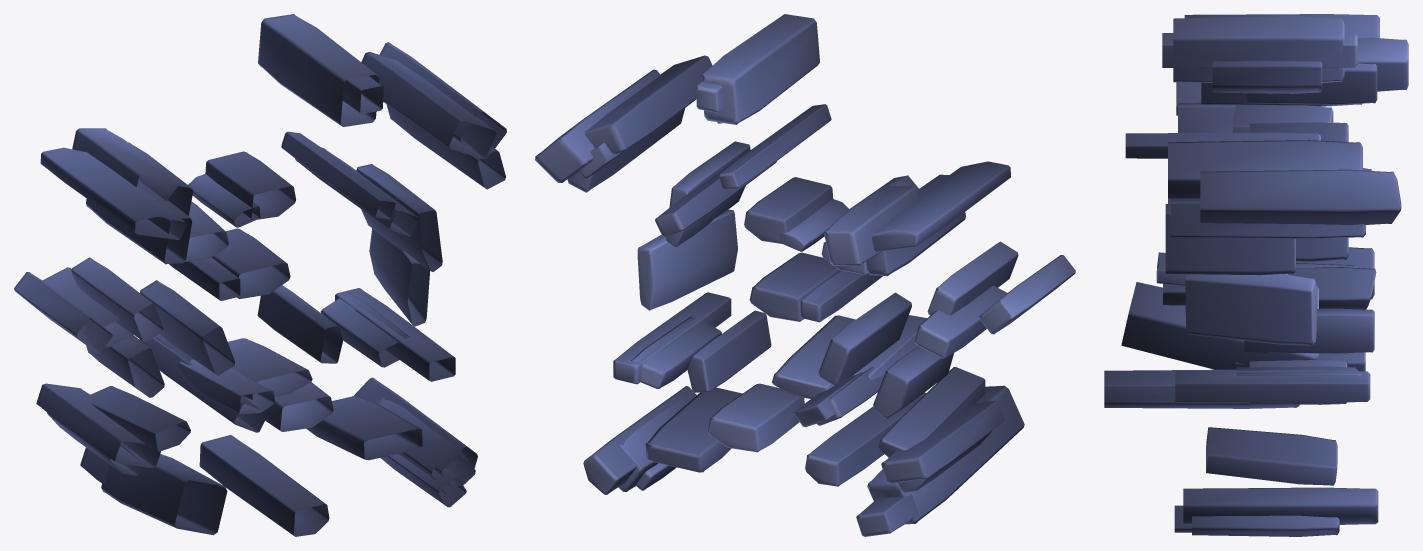
Rendered from Rocks.fbx.
3 views of the same model, side by side, from view 1: azimuth 30°, elevation 25°; view 2: azimuth 150°, elevation 25°; view 3: azimuth 270°, elevation 25° (orthographic). The views are drawn at different scales.
Parts seen in each view (by area): view 1: Mountain_Cliff_01_8, Mountain_Cliff_03_6, Mountain_Cliff_01_18, Mountain_Cliff_01_11, Mountain_Cliff_03, Mountain_Cliff_01_6, Mountain_Cliff_01_12, Mountain_Cliff_01_15, Mountain_Cliff_03_5, Mountain_Cliff_03_7, Mountain_Cliff_03_11, Mountain_Cliff_01_4 (+28 smaller); view 2: Mountain_Cliff_01_8, Mountain_Cliff_03_12, Mountain_Cliff_03, Mountain_Cliff_01_11, Mountain_Cliff_03_15, Mountain_Cliff_01_18, Mountain_Cliff_01_6, Mountain_Cliff_01_12, Mountain_Cliff_01_15, Mountain_Cliff_03_2, Mountain_Cliff_03_6, Mountain_Cliff_01_21 (+27 smaller); view 3: Mountain_Cliff_02_3, Mountain_Cliff_03_12, Mountain_Cliff_01_8, Mountain_Cliff_01_11, Mountain_Cliff_01_6, Mountain_Cliff_01_16, Mountain_Cliff_01_18, Mountain_Cliff_03_3, Mountain_Cliff_03_11, Mountain_Cliff_01_14, Mountain_Cliff_03_16, Mountain_Cliff_03_6 (+20 smaller).
Boxes of the visible parts, bbox=[...] form: Mountain_Cliff_01_8: bbox=[258, 14, 379, 126]; Mountain_Cliff_03_6: bbox=[199, 435, 329, 536]; Mountain_Cliff_01_18: bbox=[101, 454, 227, 535]; Mountain_Cliff_01_11: bbox=[361, 51, 496, 158]; Mountain_Cliff_03: bbox=[40, 147, 187, 239]; Mountain_Cliff_01_6: bbox=[306, 396, 422, 460]; Mountain_Cliff_01_12: bbox=[36, 383, 160, 468]; Mountain_Cliff_01_15: bbox=[140, 280, 234, 375]; Mountain_Cliff_03_5: bbox=[257, 285, 342, 363]; Mountain_Cliff_03_7: bbox=[205, 151, 295, 220]; Mountain_Cliff_03_11: bbox=[356, 164, 442, 271]; Mountain_Cliff_01_4: bbox=[71, 257, 163, 342]; Mountain_Cliff_01_8: bbox=[701, 14, 819, 124]; Mountain_Cliff_03_12: bbox=[637, 209, 737, 310]; Mountain_Cliff_03: bbox=[871, 161, 1010, 251]; Mountain_Cliff_01_11: bbox=[585, 55, 712, 153]; Mountain_Cliff_03_15: bbox=[707, 383, 804, 452]; Mountain_Cliff_01_18: bbox=[867, 385, 1024, 524]; Mountain_Cliff_01_6: bbox=[645, 387, 742, 472]; Mountain_Cliff_01_12: bbox=[881, 400, 1004, 483]; Mountain_Cliff_01_15: bbox=[818, 292, 911, 386]; Mountain_Cliff_03_2: bbox=[878, 367, 985, 457]; Mountain_Cliff_03_6: bbox=[805, 392, 926, 486]; Mountain_Cliff_01_21: bbox=[824, 186, 918, 265]; Mountain_Cliff_02_3: bbox=[1200, 169, 1401, 224]; Mountain_Cliff_03_12: bbox=[1185, 274, 1317, 345]; Mountain_Cliff_01_8: bbox=[1173, 16, 1344, 82]; Mountain_Cliff_01_11: bbox=[1168, 140, 1362, 198]; Mountain_Cliff_01_6: bbox=[1206, 427, 1337, 485]; Mountain_Cliff_01_16: bbox=[1175, 370, 1370, 403]; Mountain_Cliff_01_18: bbox=[1121, 282, 1319, 369]; Mountain_Cliff_03_3: bbox=[1183, 487, 1378, 524]; Mountain_Cliff_03_11: bbox=[1165, 204, 1295, 275]; Mountain_Cliff_01_14: bbox=[1171, 198, 1365, 238]; Mountain_Cliff_03_16: bbox=[1212, 61, 1322, 93]; Mountain_Cliff_03_6: bbox=[1104, 369, 1299, 408].
Bounding box in the file's own units: 10747 × 10549 × 6248.
